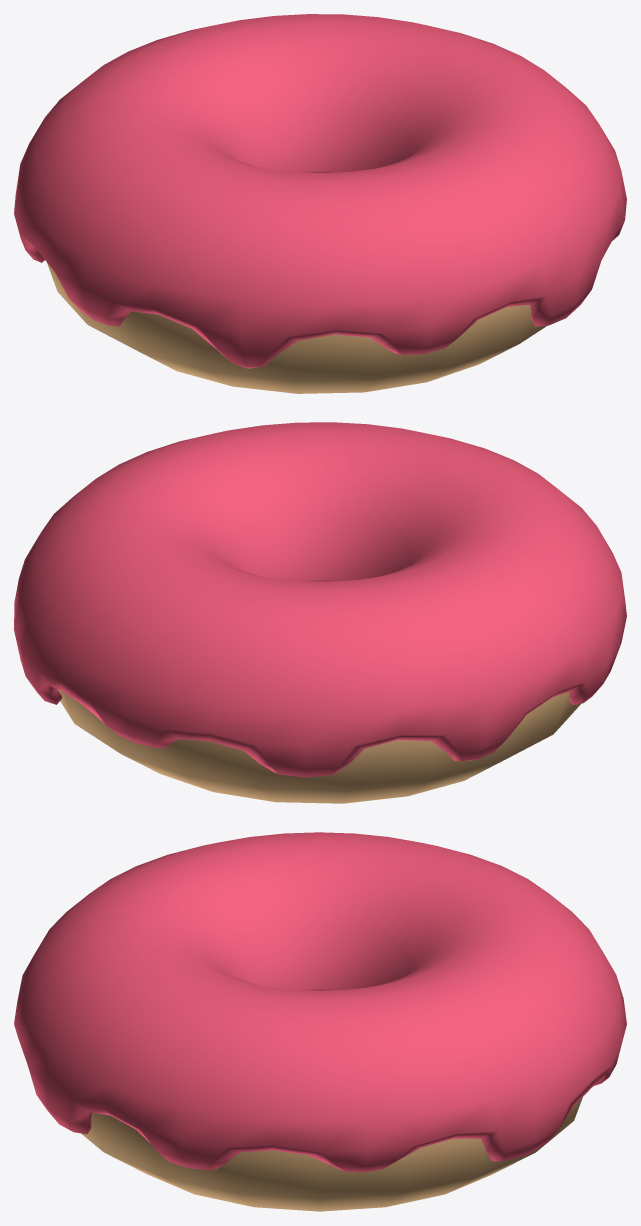
Rendered from donut.fbx.
3 renders of one model, top to bottom at view 1: azimuth 30°, elevation 25°; view 2: azimuth 150°, elevation 25°; view 3: azimuth 270°, elevation 25°, orthographic.
Visible parts, largest first — view 1: donut, Torus; view 2: donut, Torus; view 3: donut, Torus.
Boxes of the visible parts, box(x1,y1,x2,y2) form: donut: box(14, 14, 626, 368); Torus: box(47, 263, 547, 393); donut: box(14, 422, 626, 777); Torus: box(57, 689, 580, 803); donut: box(14, 832, 626, 1172); Torus: box(81, 1097, 582, 1211).
Bounding box in the file's own units: 339 × 122 × 341.
